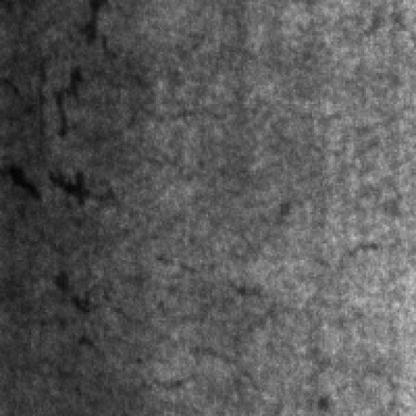crazing: (140, 233, 378, 385), (56, 25, 166, 141)
